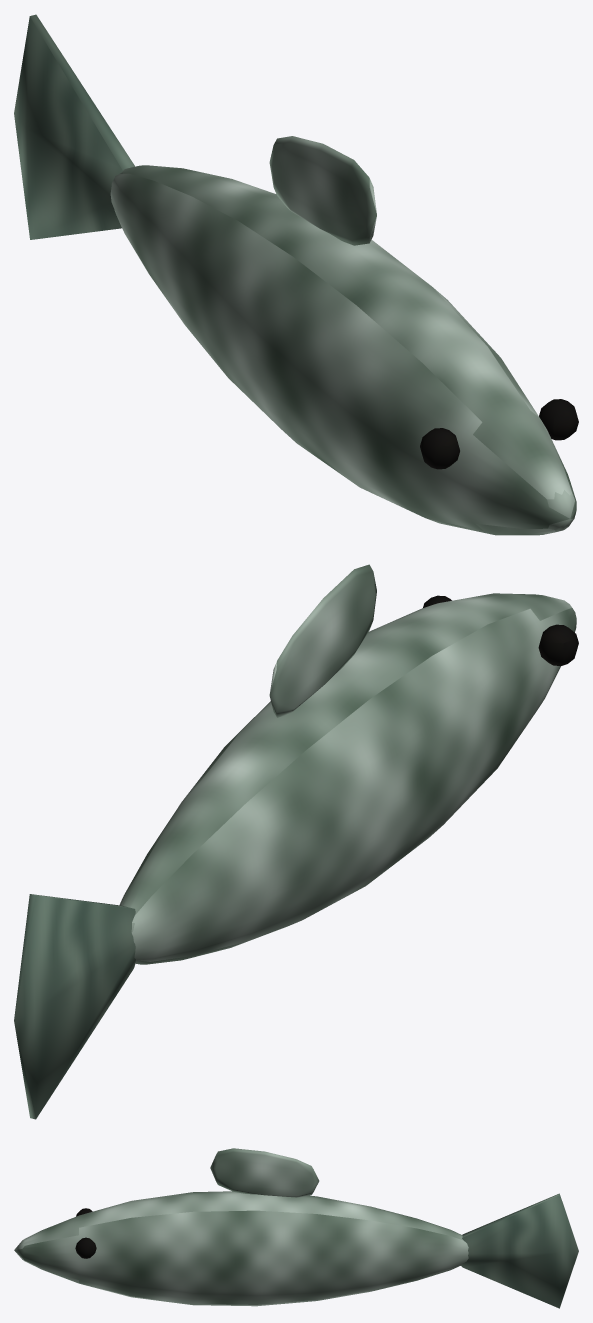
The model's file is water_rohu_carp.glb.
3 renders of one model, top to bottom at view 1: azimuth 30°, elevation 25°; view 2: azimuth 150°, elevation 25°; view 3: azimuth 270°, elevation 25°, orthographic. The views are drawn at different scales.
Visible parts, largest first — view 1: Body.011, TailFin.001, Eyes.011; view 2: Body.011, TailFin.001, Eyes.011; view 3: Body.011, TailFin.001, Eyes.011.
Boxes of the visible parts, box(x1,y1,x2,y2) form: Body.011: box(110, 136, 576, 535); TailFin.001: box(14, 14, 134, 239); Eyes.011: box(420, 399, 578, 469); Body.011: box(119, 564, 576, 964); TailFin.001: box(14, 894, 135, 1119); Eyes.011: box(423, 595, 578, 665); Body.011: box(14, 1148, 468, 1306); TailFin.001: box(461, 1193, 578, 1308); Eyes.011: box(75, 1208, 96, 1258).
Size of the model in its own units: 0.094 by 0.1823 by 0.5845.
3 materials, 3 textured.
